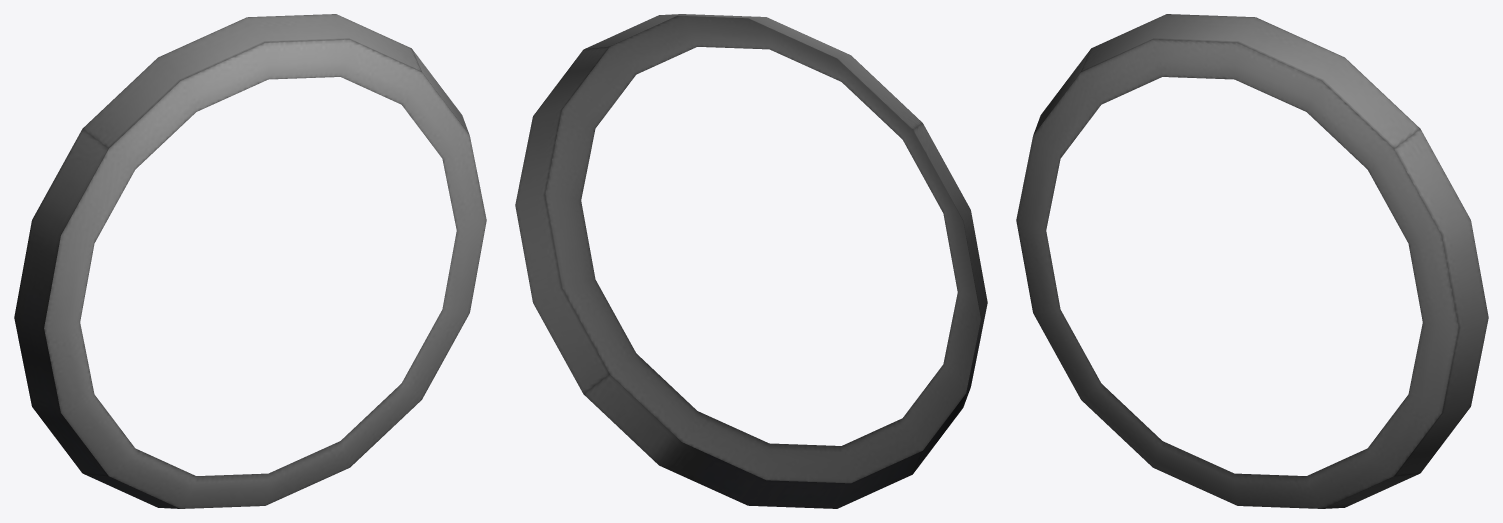
Rendered from buttonFrame.obj.
3 renders of one model, left to right at view 1: azimuth 30°, elevation 25°; view 2: azimuth 150°, elevation 25°; view 3: azimuth 330°, elevation 25°, orthographic.
Parts seen in each view (by area): view 1: buttonring003; view 2: buttonring003; view 3: buttonring003.
Part boxes in pixels (bbox=[...]): buttonring003: bbox=[14, 14, 486, 508]; buttonring003: bbox=[515, 14, 987, 508]; buttonring003: bbox=[1016, 14, 1488, 508].
Bounding box in the file's own units: 68.86 × 68.86 × 5.46.
1 material, 1 textured.
